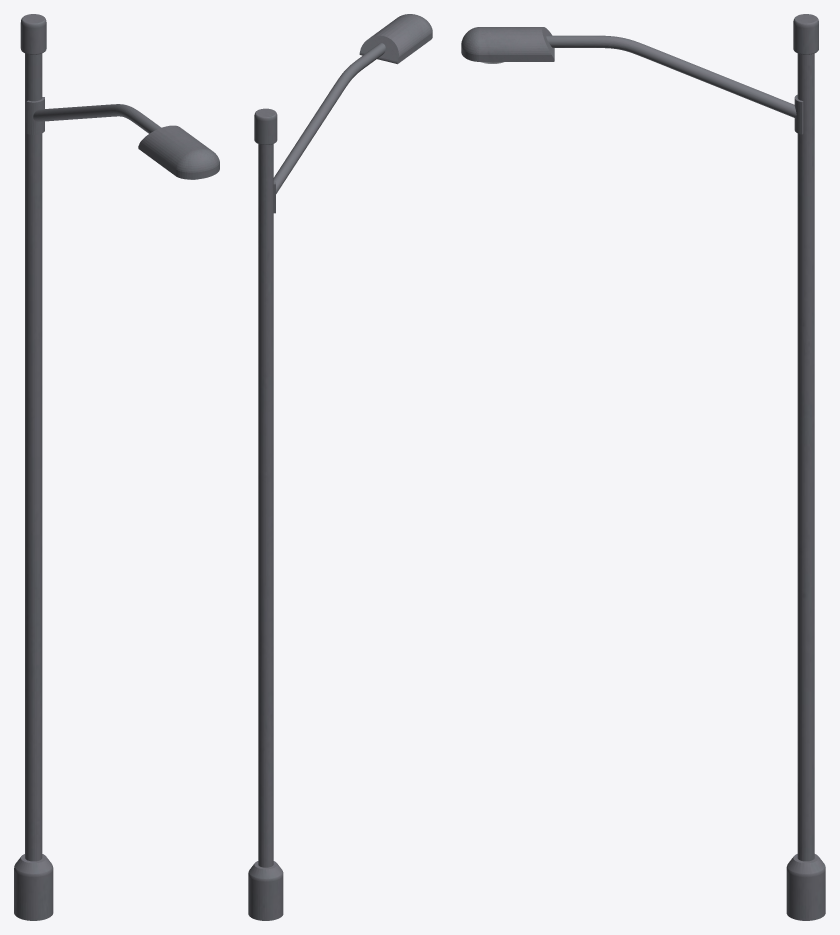
The model's file is streetLight.fbx.
3 renders of one model, left to right at view 1: azimuth 30°, elevation 25°; view 2: azimuth 150°, elevation 25°; view 3: azimuth 270°, elevation 25°, orthographic. The views are drawn at different scales.
Visible parts, largest first — view 1: StreetLight; view 2: StreetLight; view 3: StreetLight.
Boxes of the visible parts, x1,y1,x2,y2 form: StreetLight: (14,14,219,920); StreetLight: (248,14,432,920); StreetLight: (461,14,825,920).
Bounding box in the file's own units: 27.27 × 552 × 204.
